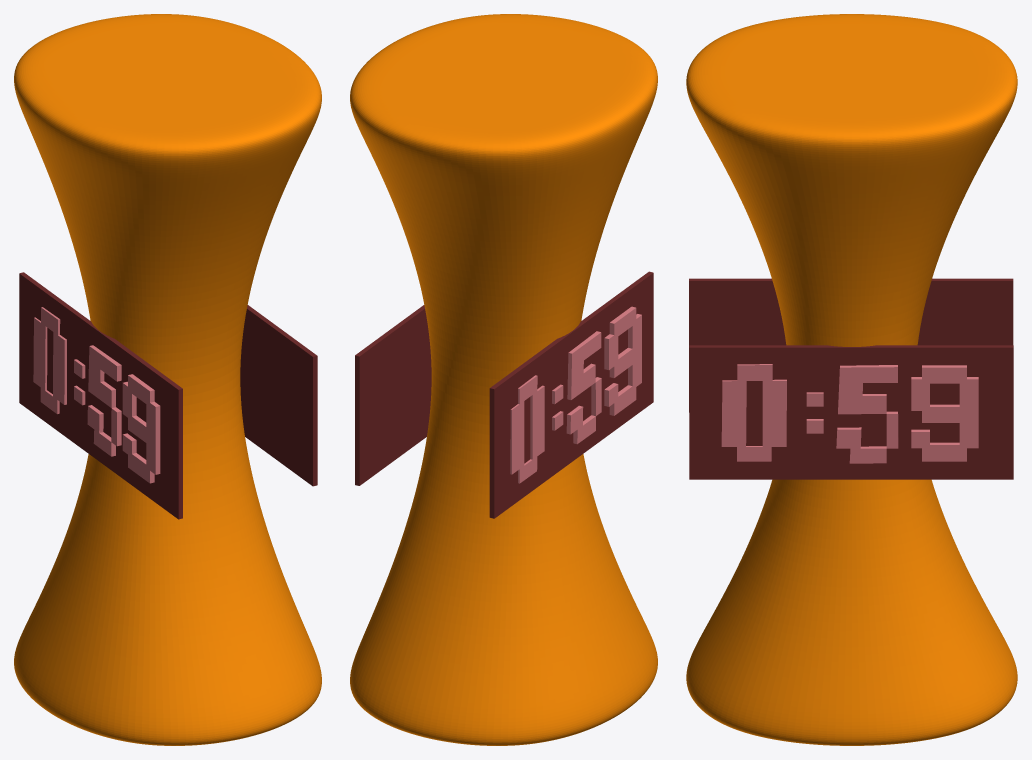
Rendered from hard_run.glb.
3 views of the same model, side by side, from view 1: azimuth 30°, elevation 25°; view 2: azimuth 150°, elevation 25°; view 3: azimuth 270°, elevation 25° (orthographic).
Visible parts, largest first — view 1: Cube.001, Plane.002, Plane, Plane.001; view 2: Cube.001, Plane.002, Plane, Plane.001; view 3: Cube.001, Plane, Plane.003, Plane.002.
Part boxes in pixels (left/top/right/bottom): Cube.001: left=14, top=14, right=321, bottom=745; Plane.002: left=19, top=272, right=182, bottom=519; Plane: left=240, top=305, right=317, bottom=486; Plane.001: left=33, top=307, right=160, bottom=483; Cube.001: left=350, top=14, right=657, bottom=745; Plane.002: left=489, top=271, right=653, bottom=518; Plane: left=355, top=305, right=431, bottom=485; Plane.001: left=510, top=306, right=641, bottom=483; Cube.001: left=686, top=14, right=1017, bottom=745; Plane: left=689, top=345, right=1013, bottom=479; Plane.003: left=721, top=364, right=978, bottom=463; Plane.002: left=689, top=278, right=1013, bottom=412.
Bounding box in the file's own units: 0.8753 × 2 × 0.9739.
